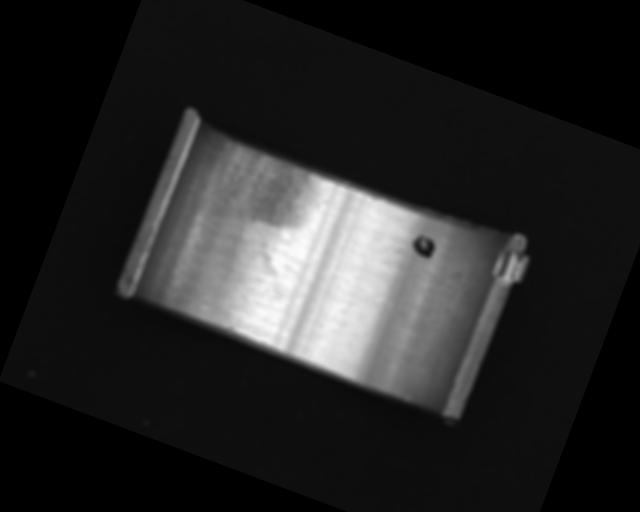blot: (408, 232, 439, 260)
bruise: (224, 323, 236, 335)
scratch: (200, 138, 331, 243)
